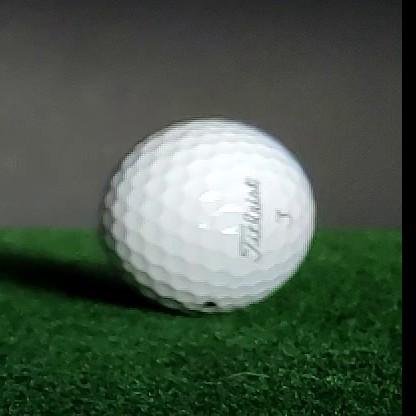golfball: (99, 118, 316, 312)
